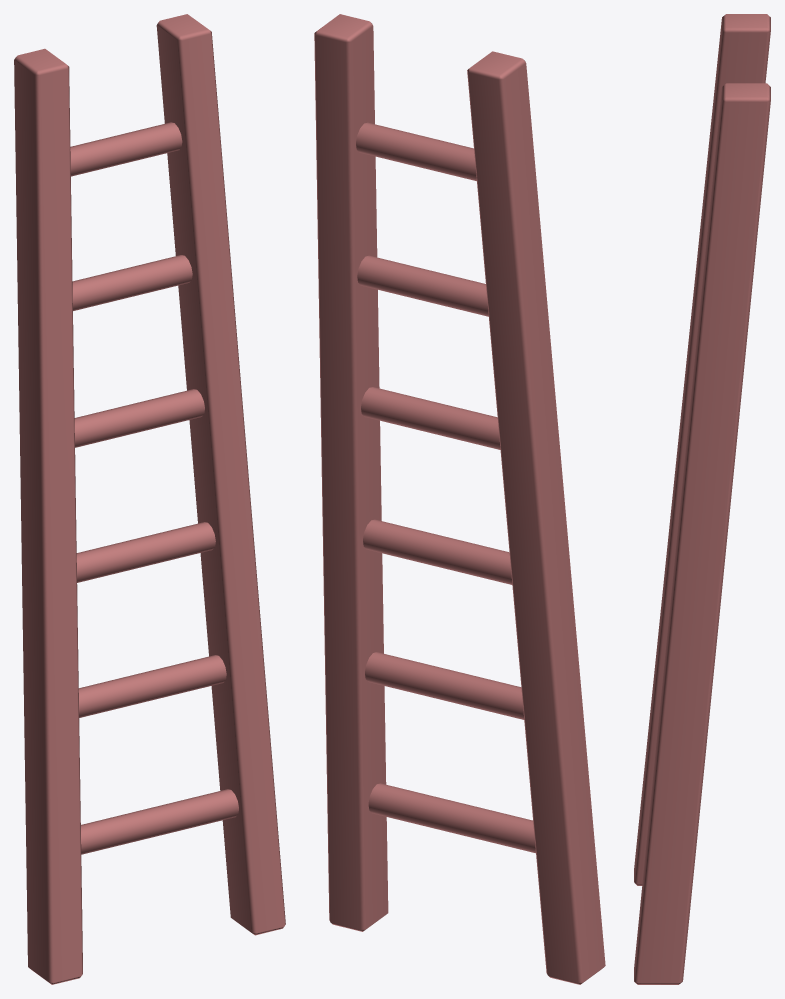
File: Ladder_1.glb
3 renders of one model, left to right at view 1: azimuth 30°, elevation 25°; view 2: azimuth 150°, elevation 25°; view 3: azimuth 270°, elevation 25°, orthographic. The views are drawn at different scales.
Visible parts, largest first — view 1: Ladder_1; view 2: Ladder_1; view 3: Ladder_1.
Boxes of the visible parts, bbox=[...] form: Ladder_1: bbox=[14, 14, 285, 984]; Ladder_1: bbox=[314, 14, 605, 984]; Ladder_1: bbox=[634, 14, 770, 984].
Bounding box in the file's own units: 0.9596 × 3.38 × 0.4799.
Materials: 1 (1 with a texture image).
